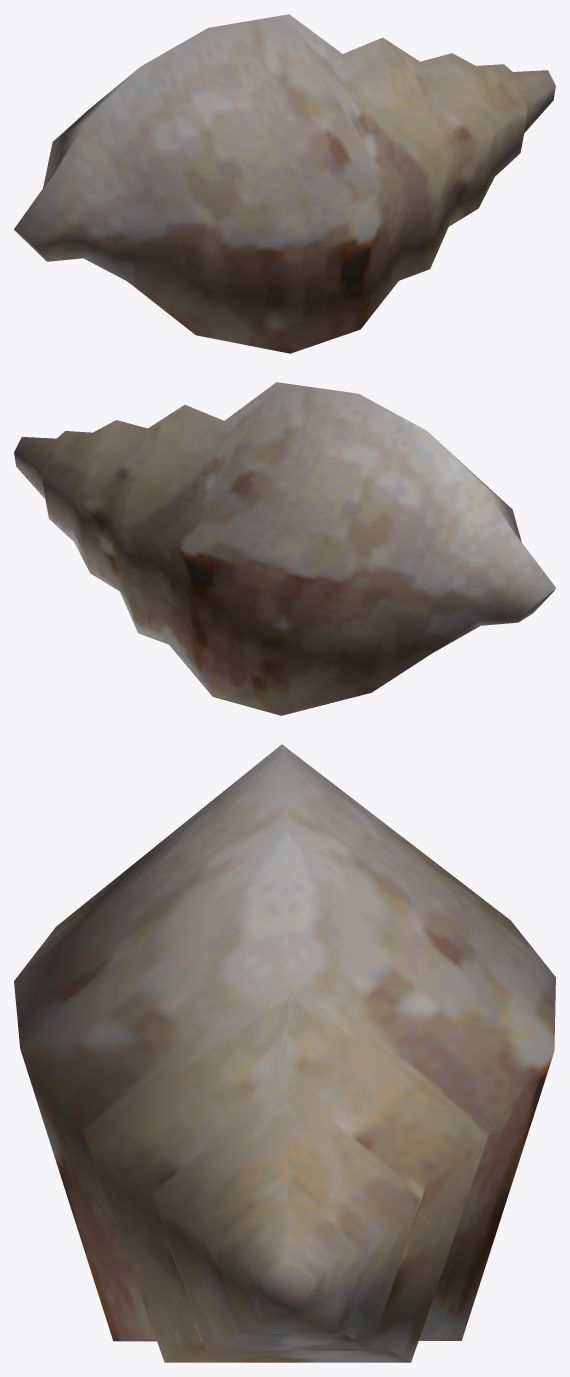
Rendered from 5010_Item_hailuo_08.FBX.
3 views of the same model, one above another, from view 1: azimuth 30°, elevation 25°; view 2: azimuth 150°, elevation 25°; view 3: azimuth 270°, elevation 25° (orthographic). The views are drawn at different scales.
Parts seen in each view (by area): view 1: 5010_Item_hailuo_08; view 2: 5010_Item_hailuo_08; view 3: 5010_Item_hailuo_08.
Boxes of the visible parts, <box> form: 5010_Item_hailuo_08: <box>14,14,555,353</box>; 5010_Item_hailuo_08: <box>14,382,555,715</box>; 5010_Item_hailuo_08: <box>14,744,555,1362</box>.
Size of the model in its own units: 111 by 58.36 by 56.68.
